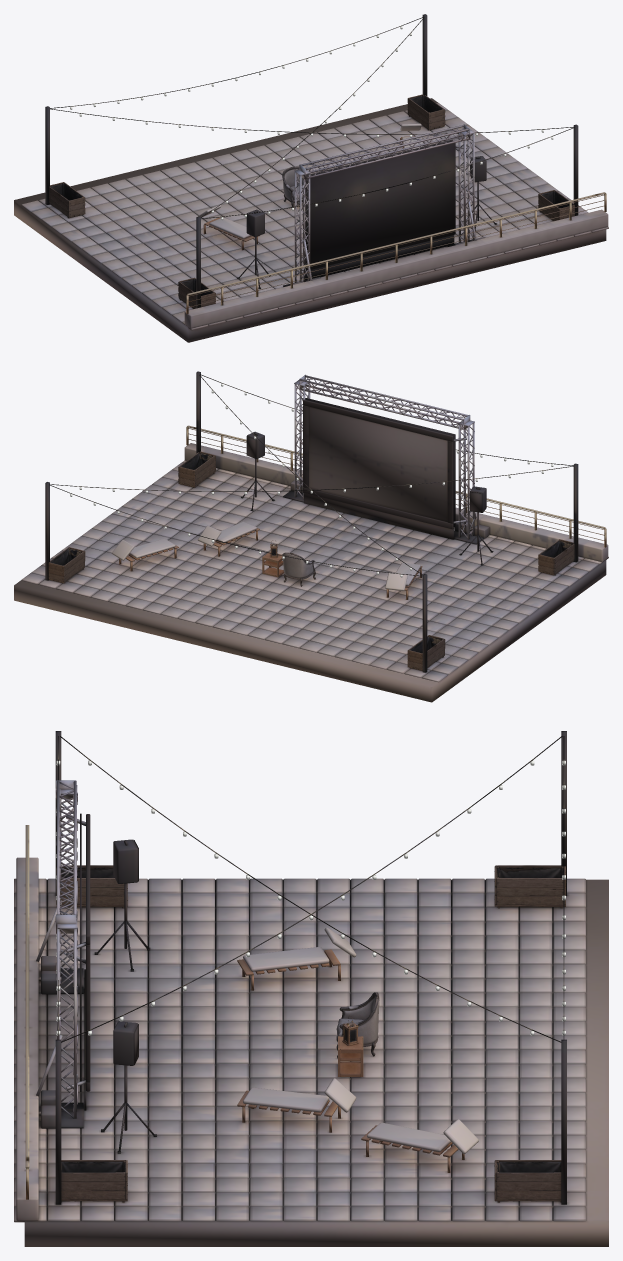
The model's file is terrace.glb.
3 views of the same model, one above another, from view 1: azimuth 30°, elevation 25°; view 2: azimuth 150°, elevation 25°; view 3: azimuth 270°, elevation 25° (orthographic). The views are drawn at different scales.
Parts seen in each view (by area): view 1: terrace, terrace_props; view 2: terrace, terrace_props; view 3: terrace, terrace_props.
Boxes of the visible parts, bbox=[...] form: terrace: bbox=[14, 14, 608, 342]; terrace_props: bbox=[49, 94, 574, 308]; terrace: bbox=[14, 371, 608, 702]; terrace_props: bbox=[48, 451, 574, 670]; terrace: bbox=[14, 731, 608, 1246]; terrace_props: bbox=[56, 865, 566, 1202].
Bounding box in the file's own units: 14.45 × 4.48 × 10.59.
Materials: 2 (2 with a texture image).
